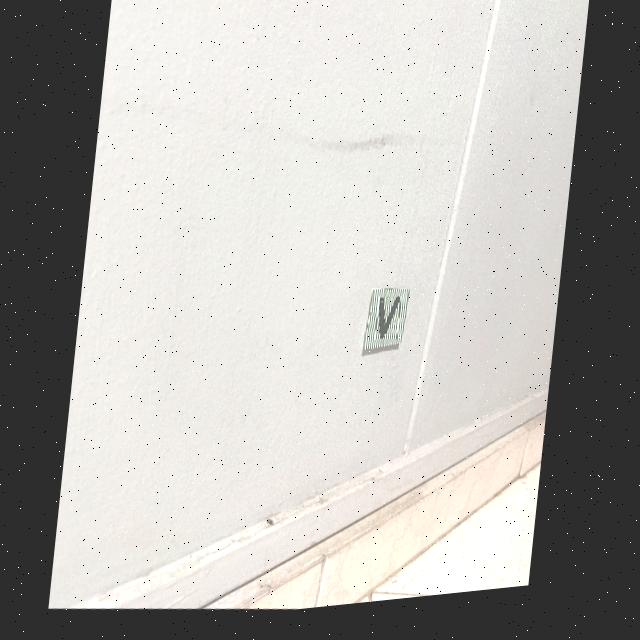V: (379, 305, 400, 348)
